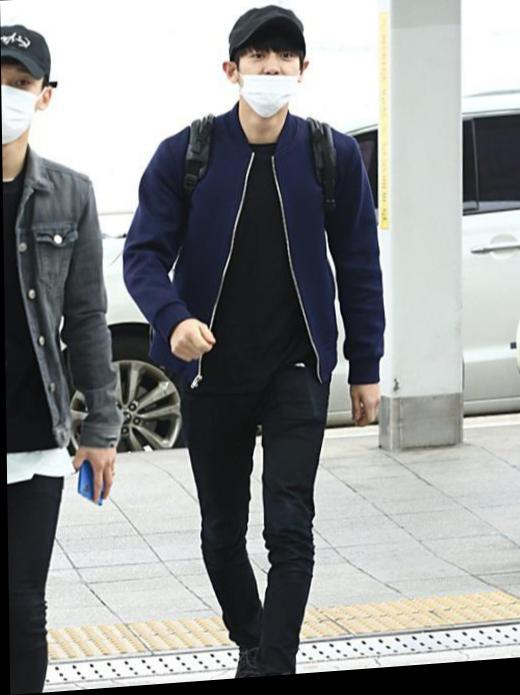OK: (2, 68, 49, 146)
WRONG: (235, 43, 306, 117)
